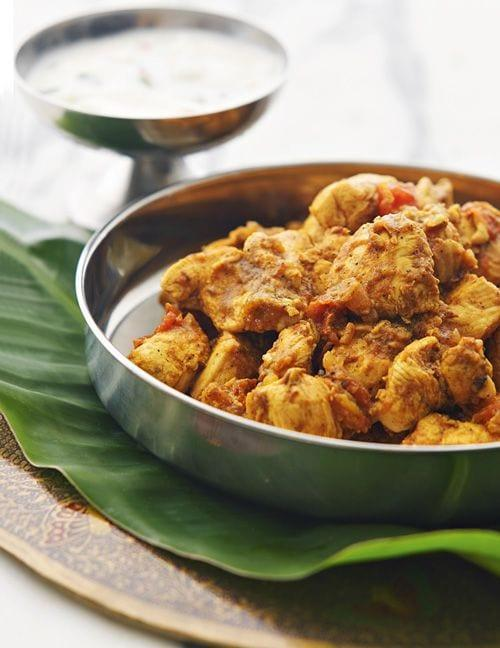chicken: (157, 181, 500, 441)
